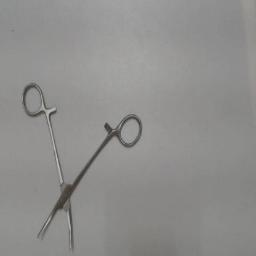Crile Artery Forceps: (20, 80, 144, 252)
